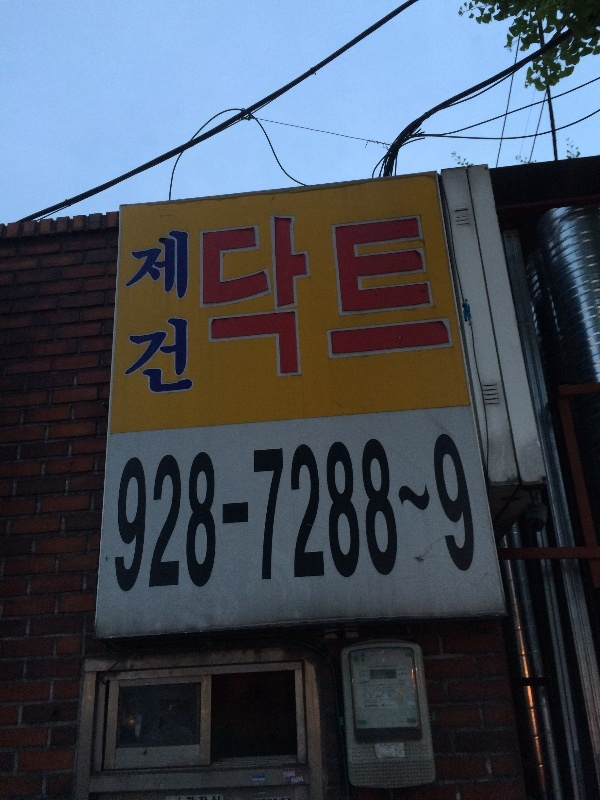text: (209, 219, 224, 396), (225, 219, 240, 396), (241, 219, 256, 396), (257, 219, 272, 396), (273, 219, 288, 396), (289, 219, 304, 396), (305, 219, 320, 396), (321, 219, 336, 396), (337, 219, 352, 396), (353, 219, 368, 396), (369, 219, 384, 396), (385, 219, 400, 396), (401, 219, 416, 396), (417, 219, 432, 396), (433, 219, 448, 396), (145, 232, 160, 396), (161, 232, 176, 396), (177, 232, 192, 396), (129, 433, 144, 594), (145, 433, 160, 594), (161, 433, 176, 594), (177, 433, 192, 594), (193, 433, 208, 594), (209, 433, 224, 594), (225, 433, 240, 594), (241, 433, 256, 594), (257, 433, 272, 594), (273, 433, 288, 594), (289, 433, 304, 594), (305, 433, 320, 594), (321, 433, 336, 594), (337, 433, 352, 594), (353, 433, 368, 594), (369, 433, 384, 594), (385, 433, 400, 594), (401, 433, 416, 594), (417, 433, 432, 594), (433, 433, 448, 594), (449, 433, 464, 594), (465, 433, 477, 594), (133, 232, 144, 396), (200, 219, 208, 396), (449, 219, 456, 396), (122, 433, 128, 594), (369, 659, 384, 711), (385, 659, 400, 711), (401, 659, 414, 711), (357, 659, 368, 711), (385, 742, 400, 760), (376, 742, 384, 760), (401, 742, 406, 760)
